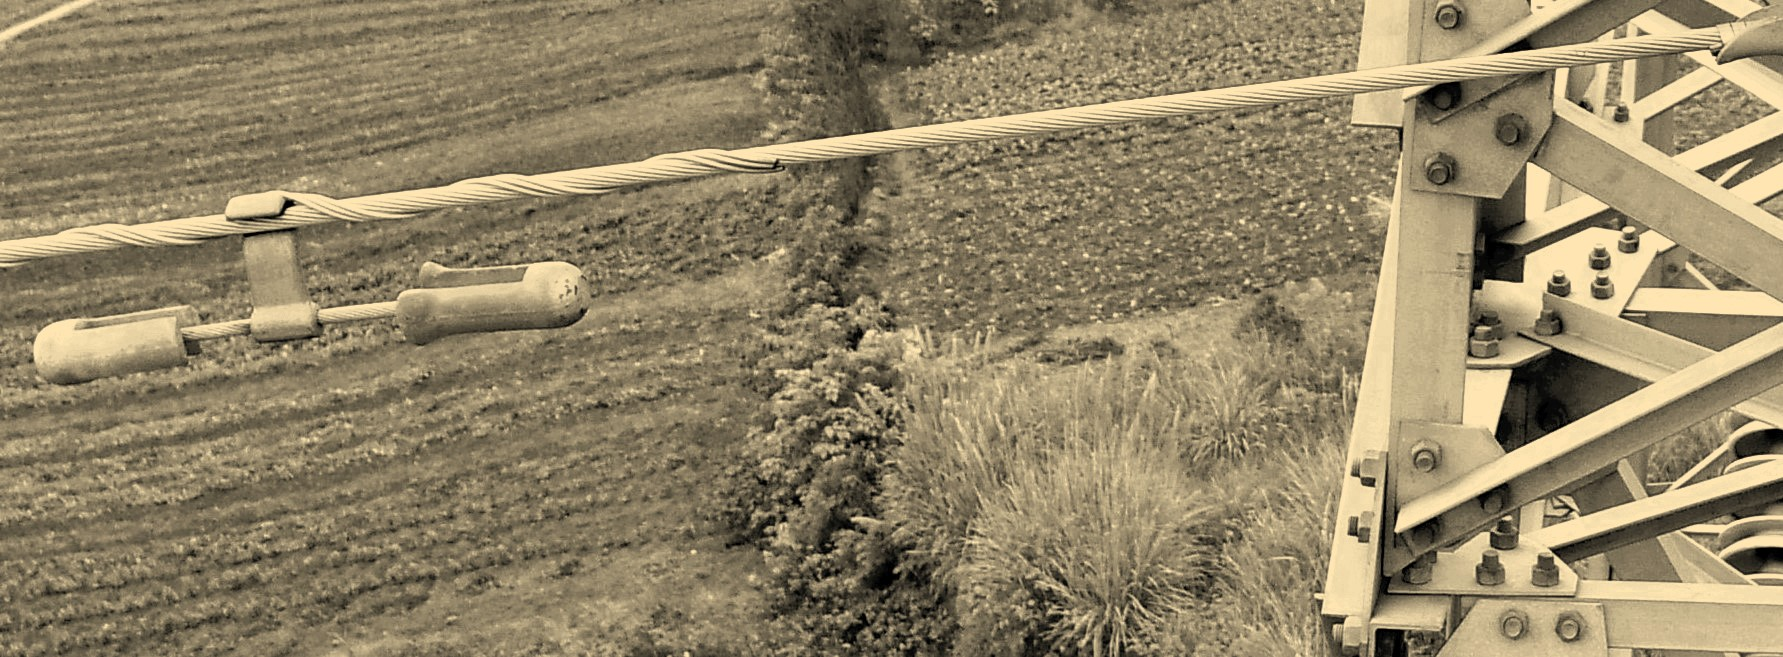Shockproof hammer: (24, 135, 605, 390)
